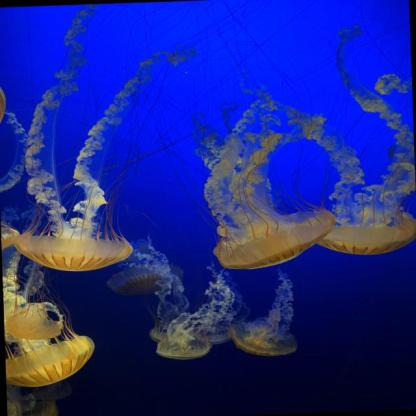jellyfish: (212, 205, 340, 270), (10, 226, 134, 274), (4, 330, 97, 388), (310, 208, 415, 257), (224, 316, 299, 358), (4, 299, 66, 346), (149, 333, 214, 360), (110, 272, 171, 296), (186, 326, 236, 348), (7, 397, 59, 415), (145, 325, 184, 347), (0, 219, 22, 257), (0, 79, 9, 134)
